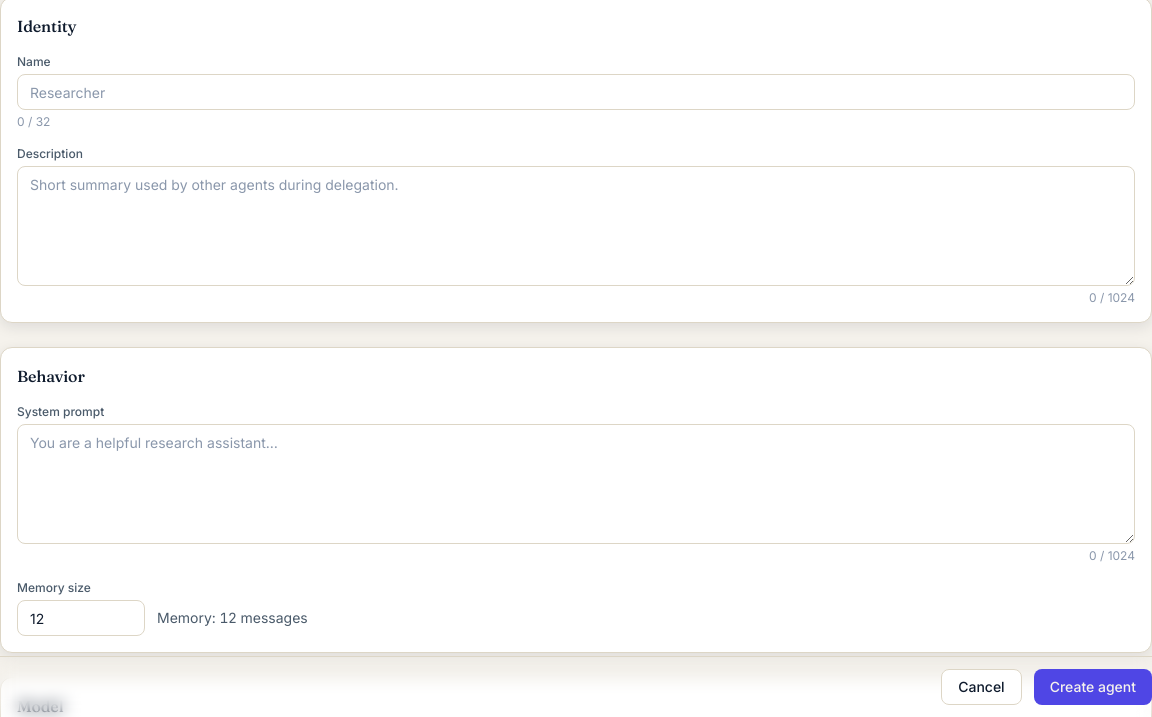
Test: AgentForm — create mode › 409 CROSS_OWNER_TEAM_MEMBER: surfaces an error in the Team section
Type "a" into the field labelled "Name".
click(576, 92); type("a")  # box [17,74,1135,110]
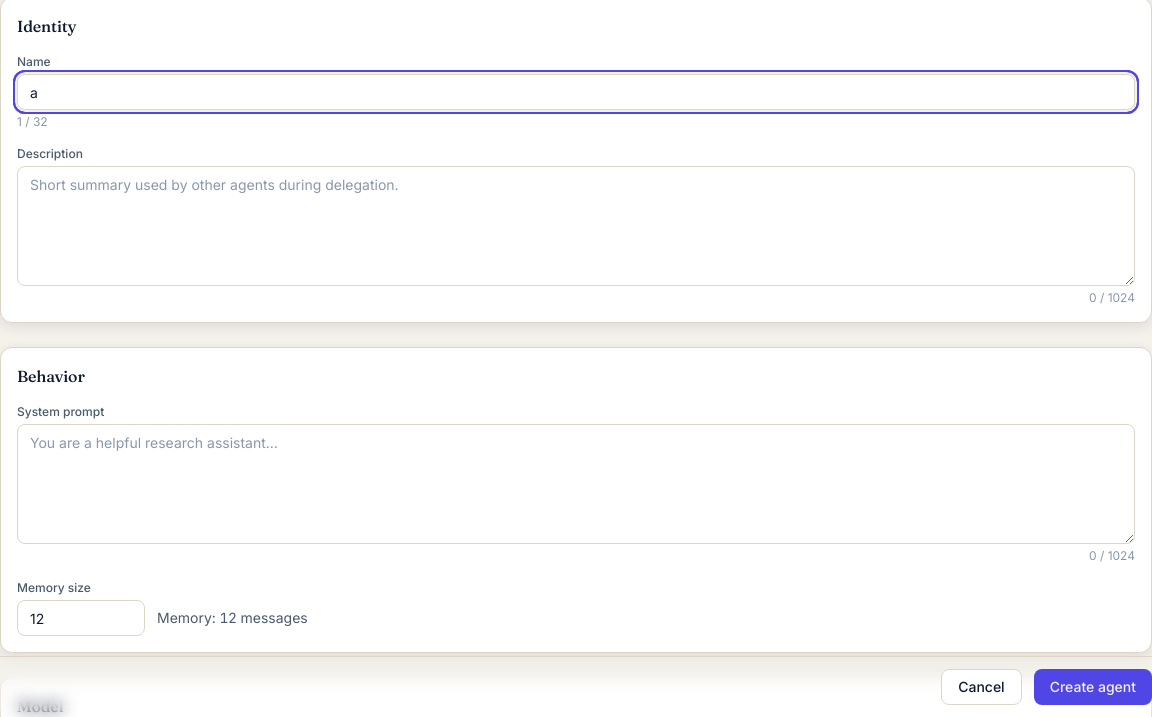
Type "d" into the text box labelled "Description".
click(576, 226); type("d")  # box [17,166,1135,286]
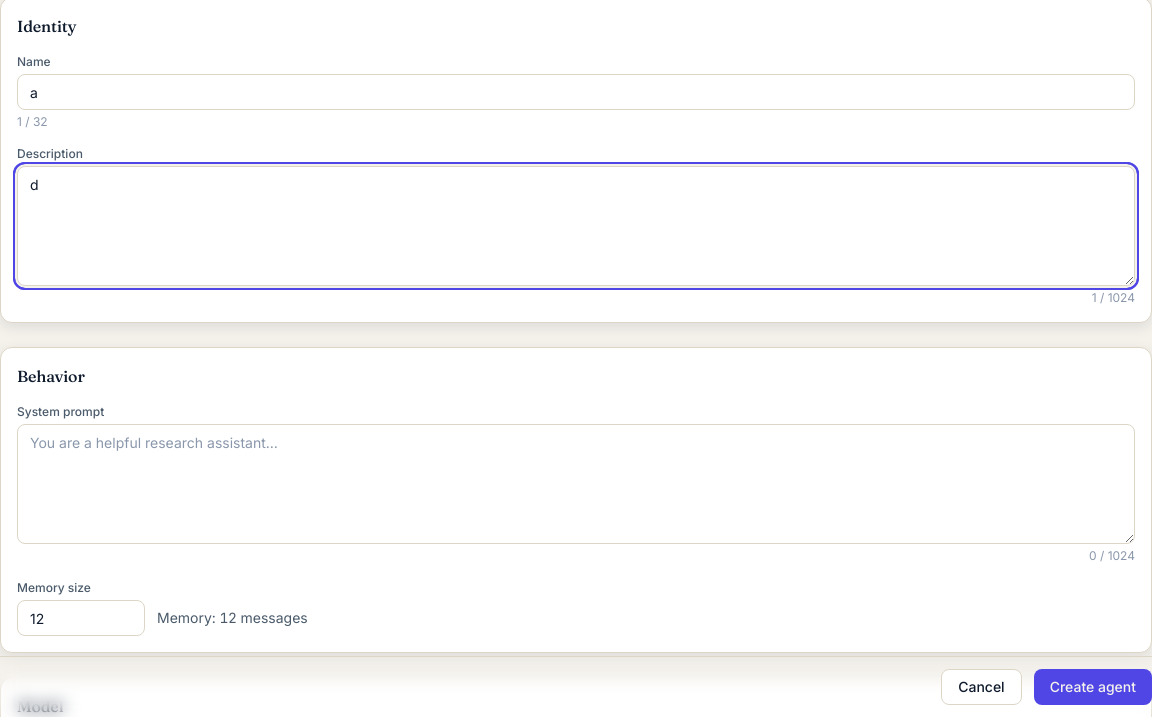
Type "s" into the text box labelled "System prompt".
click(576, 484); type("s")  # box [17,424,1135,544]
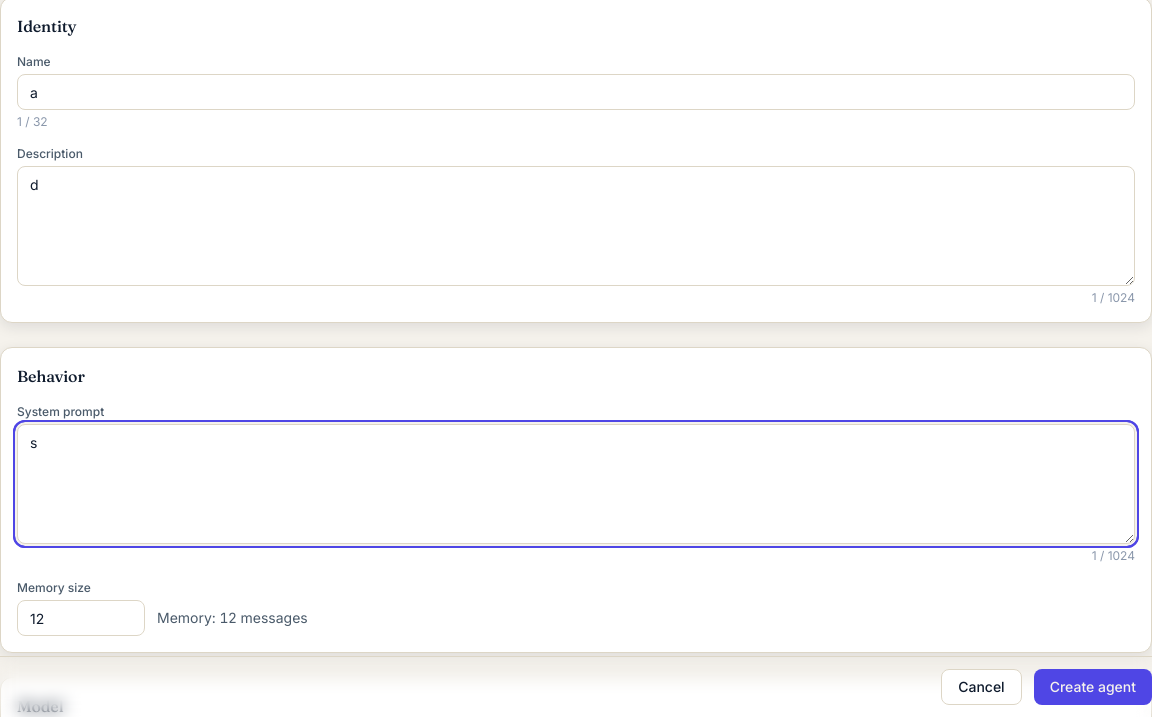
Click the button "Create agent".
click(1093, 687)  # box [1034,669,1151,705]
(page scrolled)
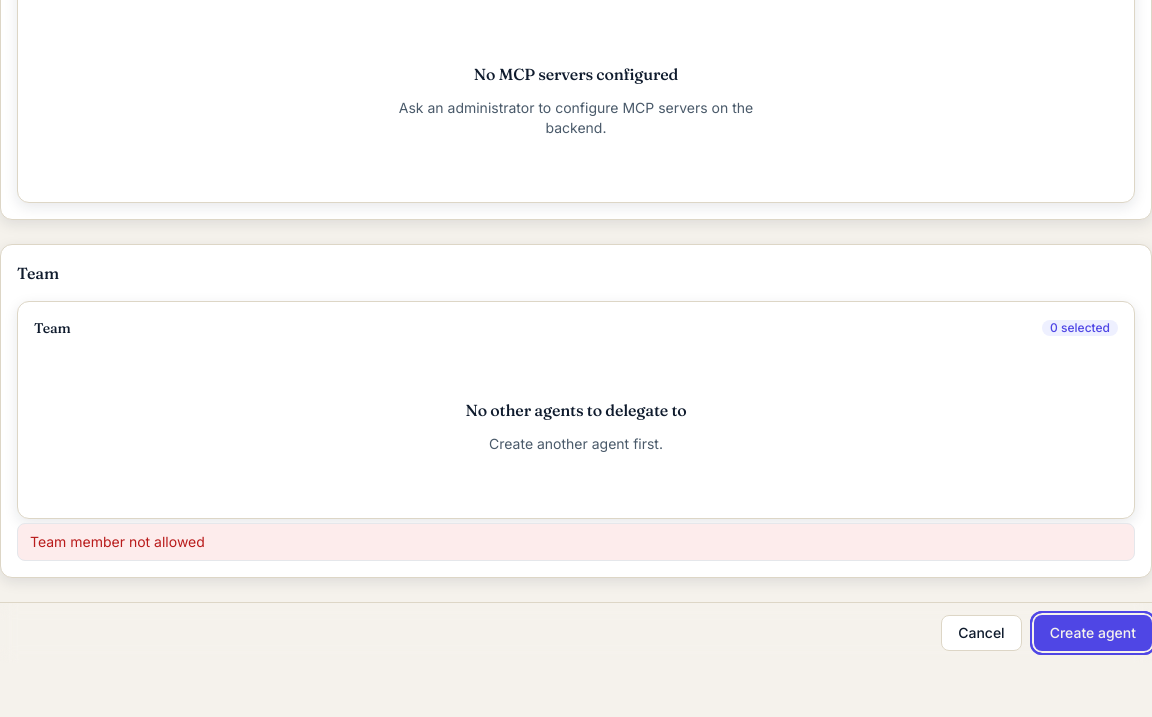
expect the text "Team member not allowed" is shown: met, box [17,523,1135,561]
